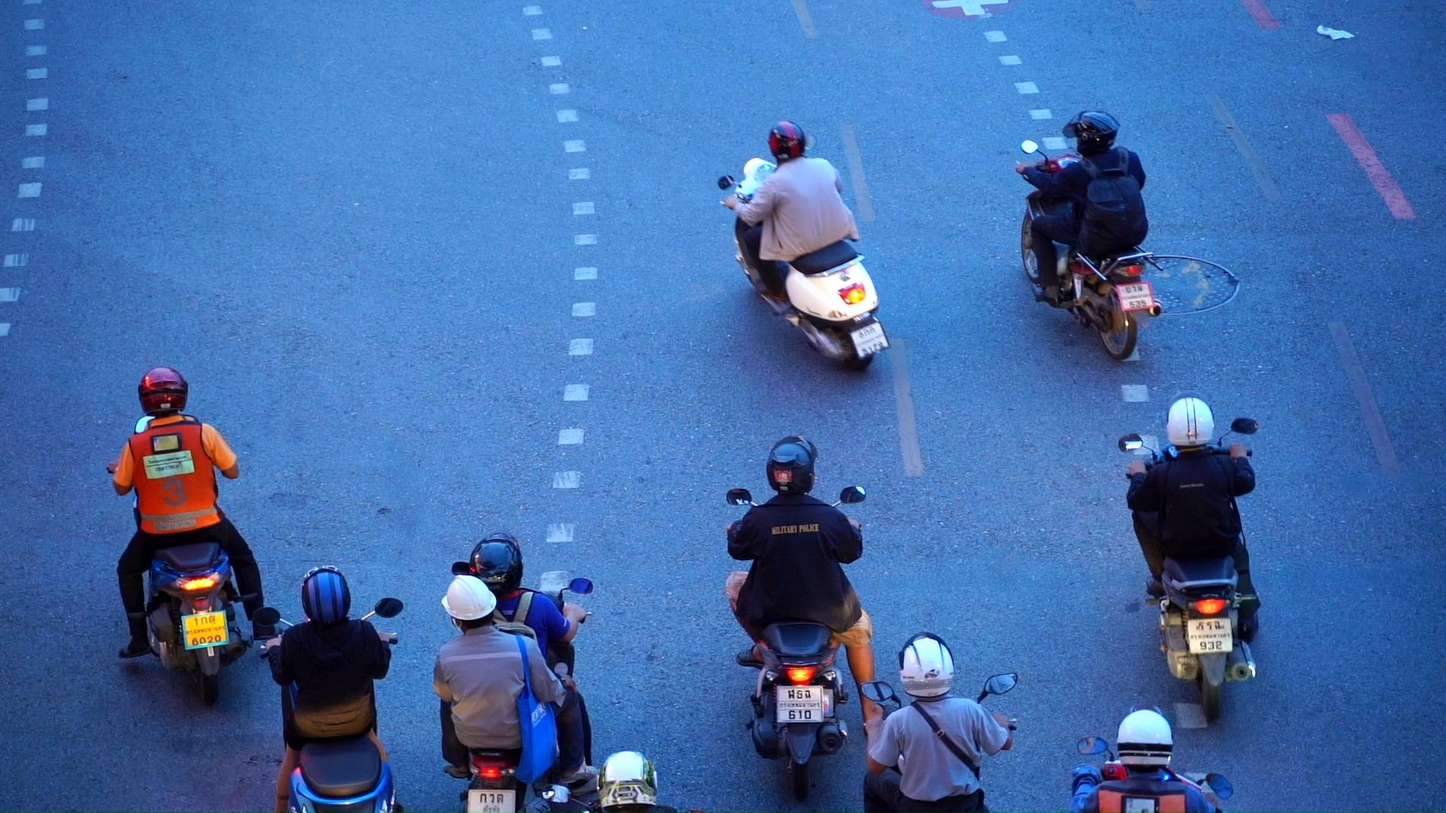driver: (725, 434, 900, 801), (104, 366, 288, 703), (1117, 391, 1262, 719), (435, 532, 600, 813), (718, 121, 892, 371), (253, 565, 405, 813), (1016, 109, 1164, 359), (860, 632, 1018, 813), (1070, 703, 1233, 813)
helmet: (1116, 703, 1174, 775), (898, 632, 955, 699), (597, 750, 657, 813), (469, 532, 524, 597), (441, 575, 496, 636), (766, 435, 818, 496), (1062, 110, 1121, 161), (301, 565, 351, 624), (1166, 391, 1215, 451), (138, 366, 189, 417), (767, 120, 806, 160)
